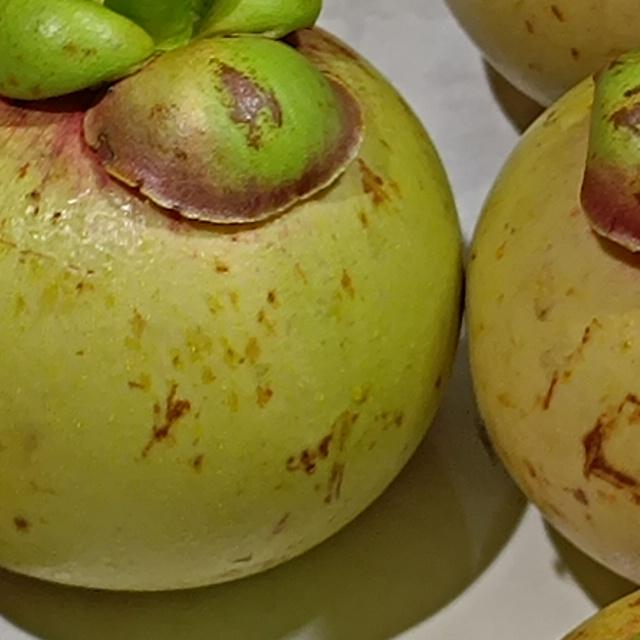mangosteen: (0, 0, 495, 640), (375, 0, 640, 604)
